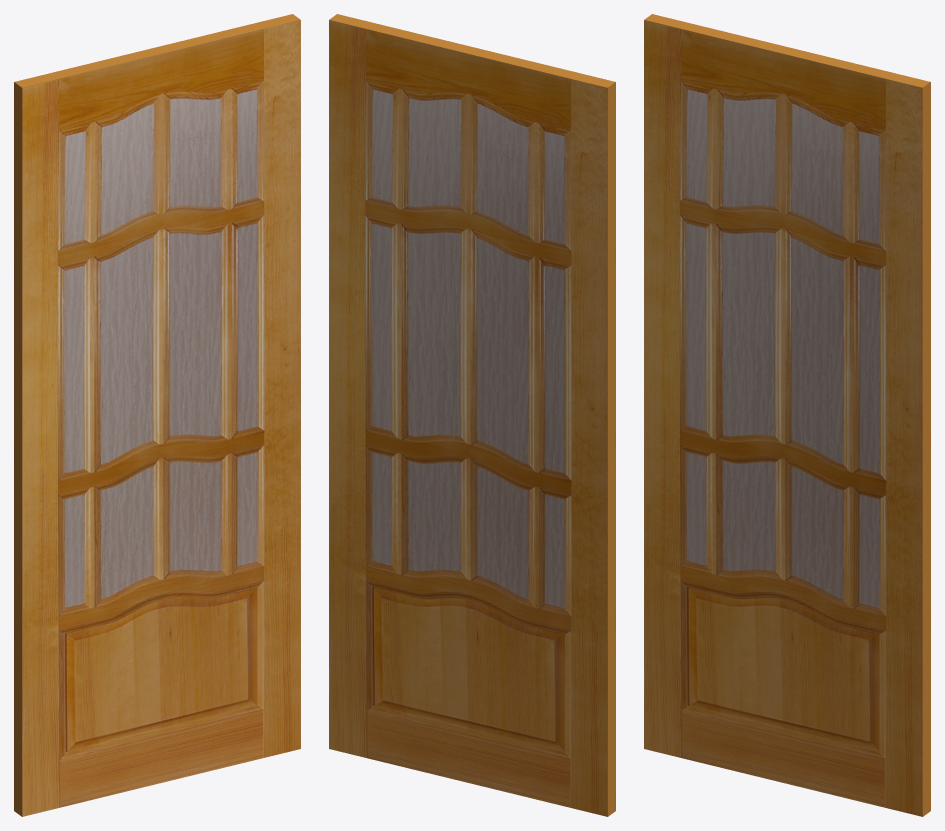
The model's file is door.gltf.
3 renders of one model, left to right at view 1: azimuth 30°, elevation 25°; view 2: azimuth 150°, elevation 25°; view 3: azimuth 330°, elevation 25°, orthographic.
Visible parts, largest first — view 1: Cube001; view 2: Cube001; view 3: Cube001.
Part boxes in pixels (bbox=[...]): Cube001: bbox=[14, 14, 300, 816]; Cube001: bbox=[329, 14, 615, 816]; Cube001: bbox=[644, 14, 930, 816].
Size of the model in its own units: 80 by 200 by 4.
Materials: 1 (1 with a texture image).
